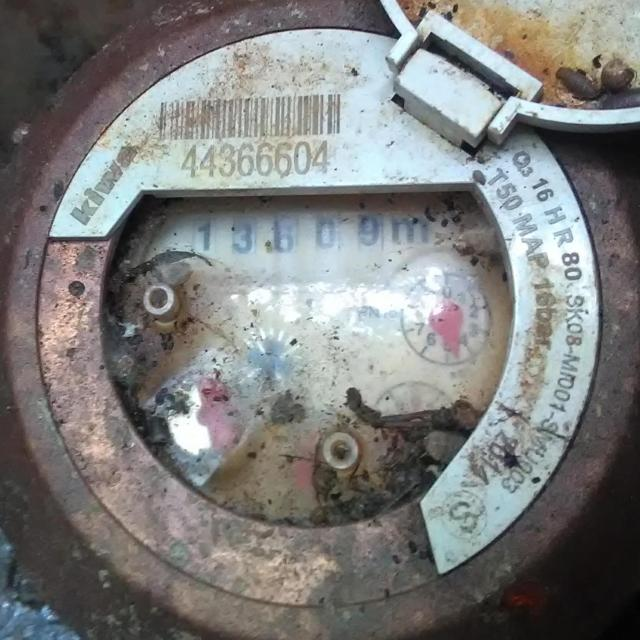gaz_meter: (32, 28, 608, 612)
indication: (181, 207, 394, 272)
